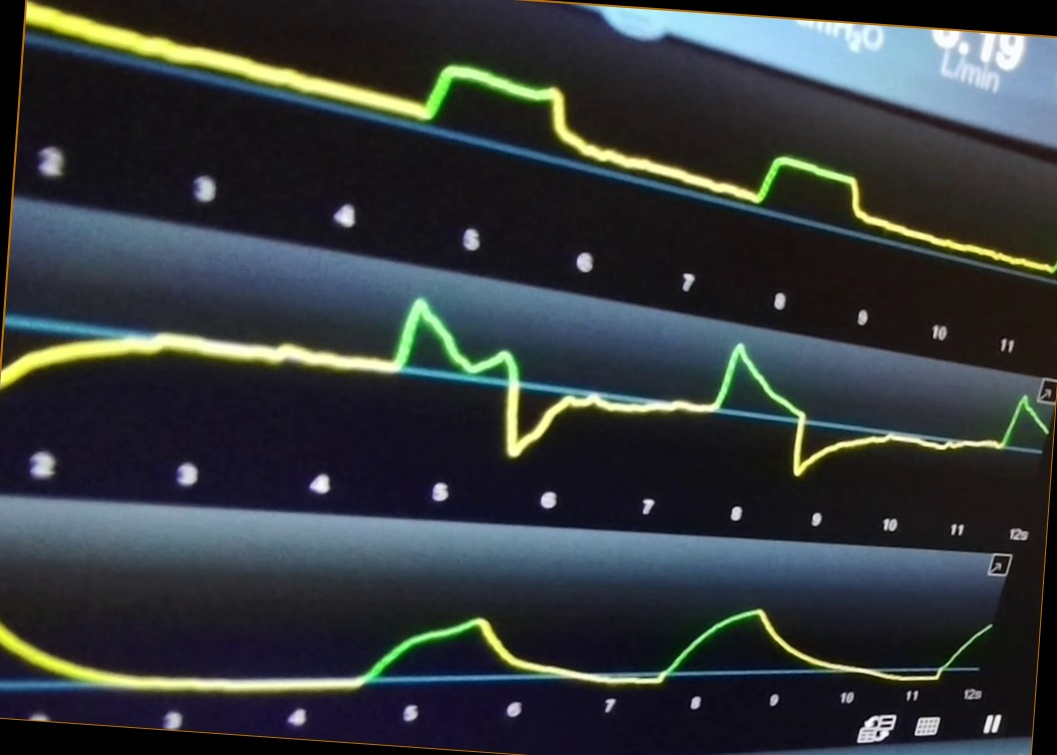Double_Triggering Flow: (13, 300, 1043, 483)
Double_Triggering Volume: (8, 587, 992, 692)
